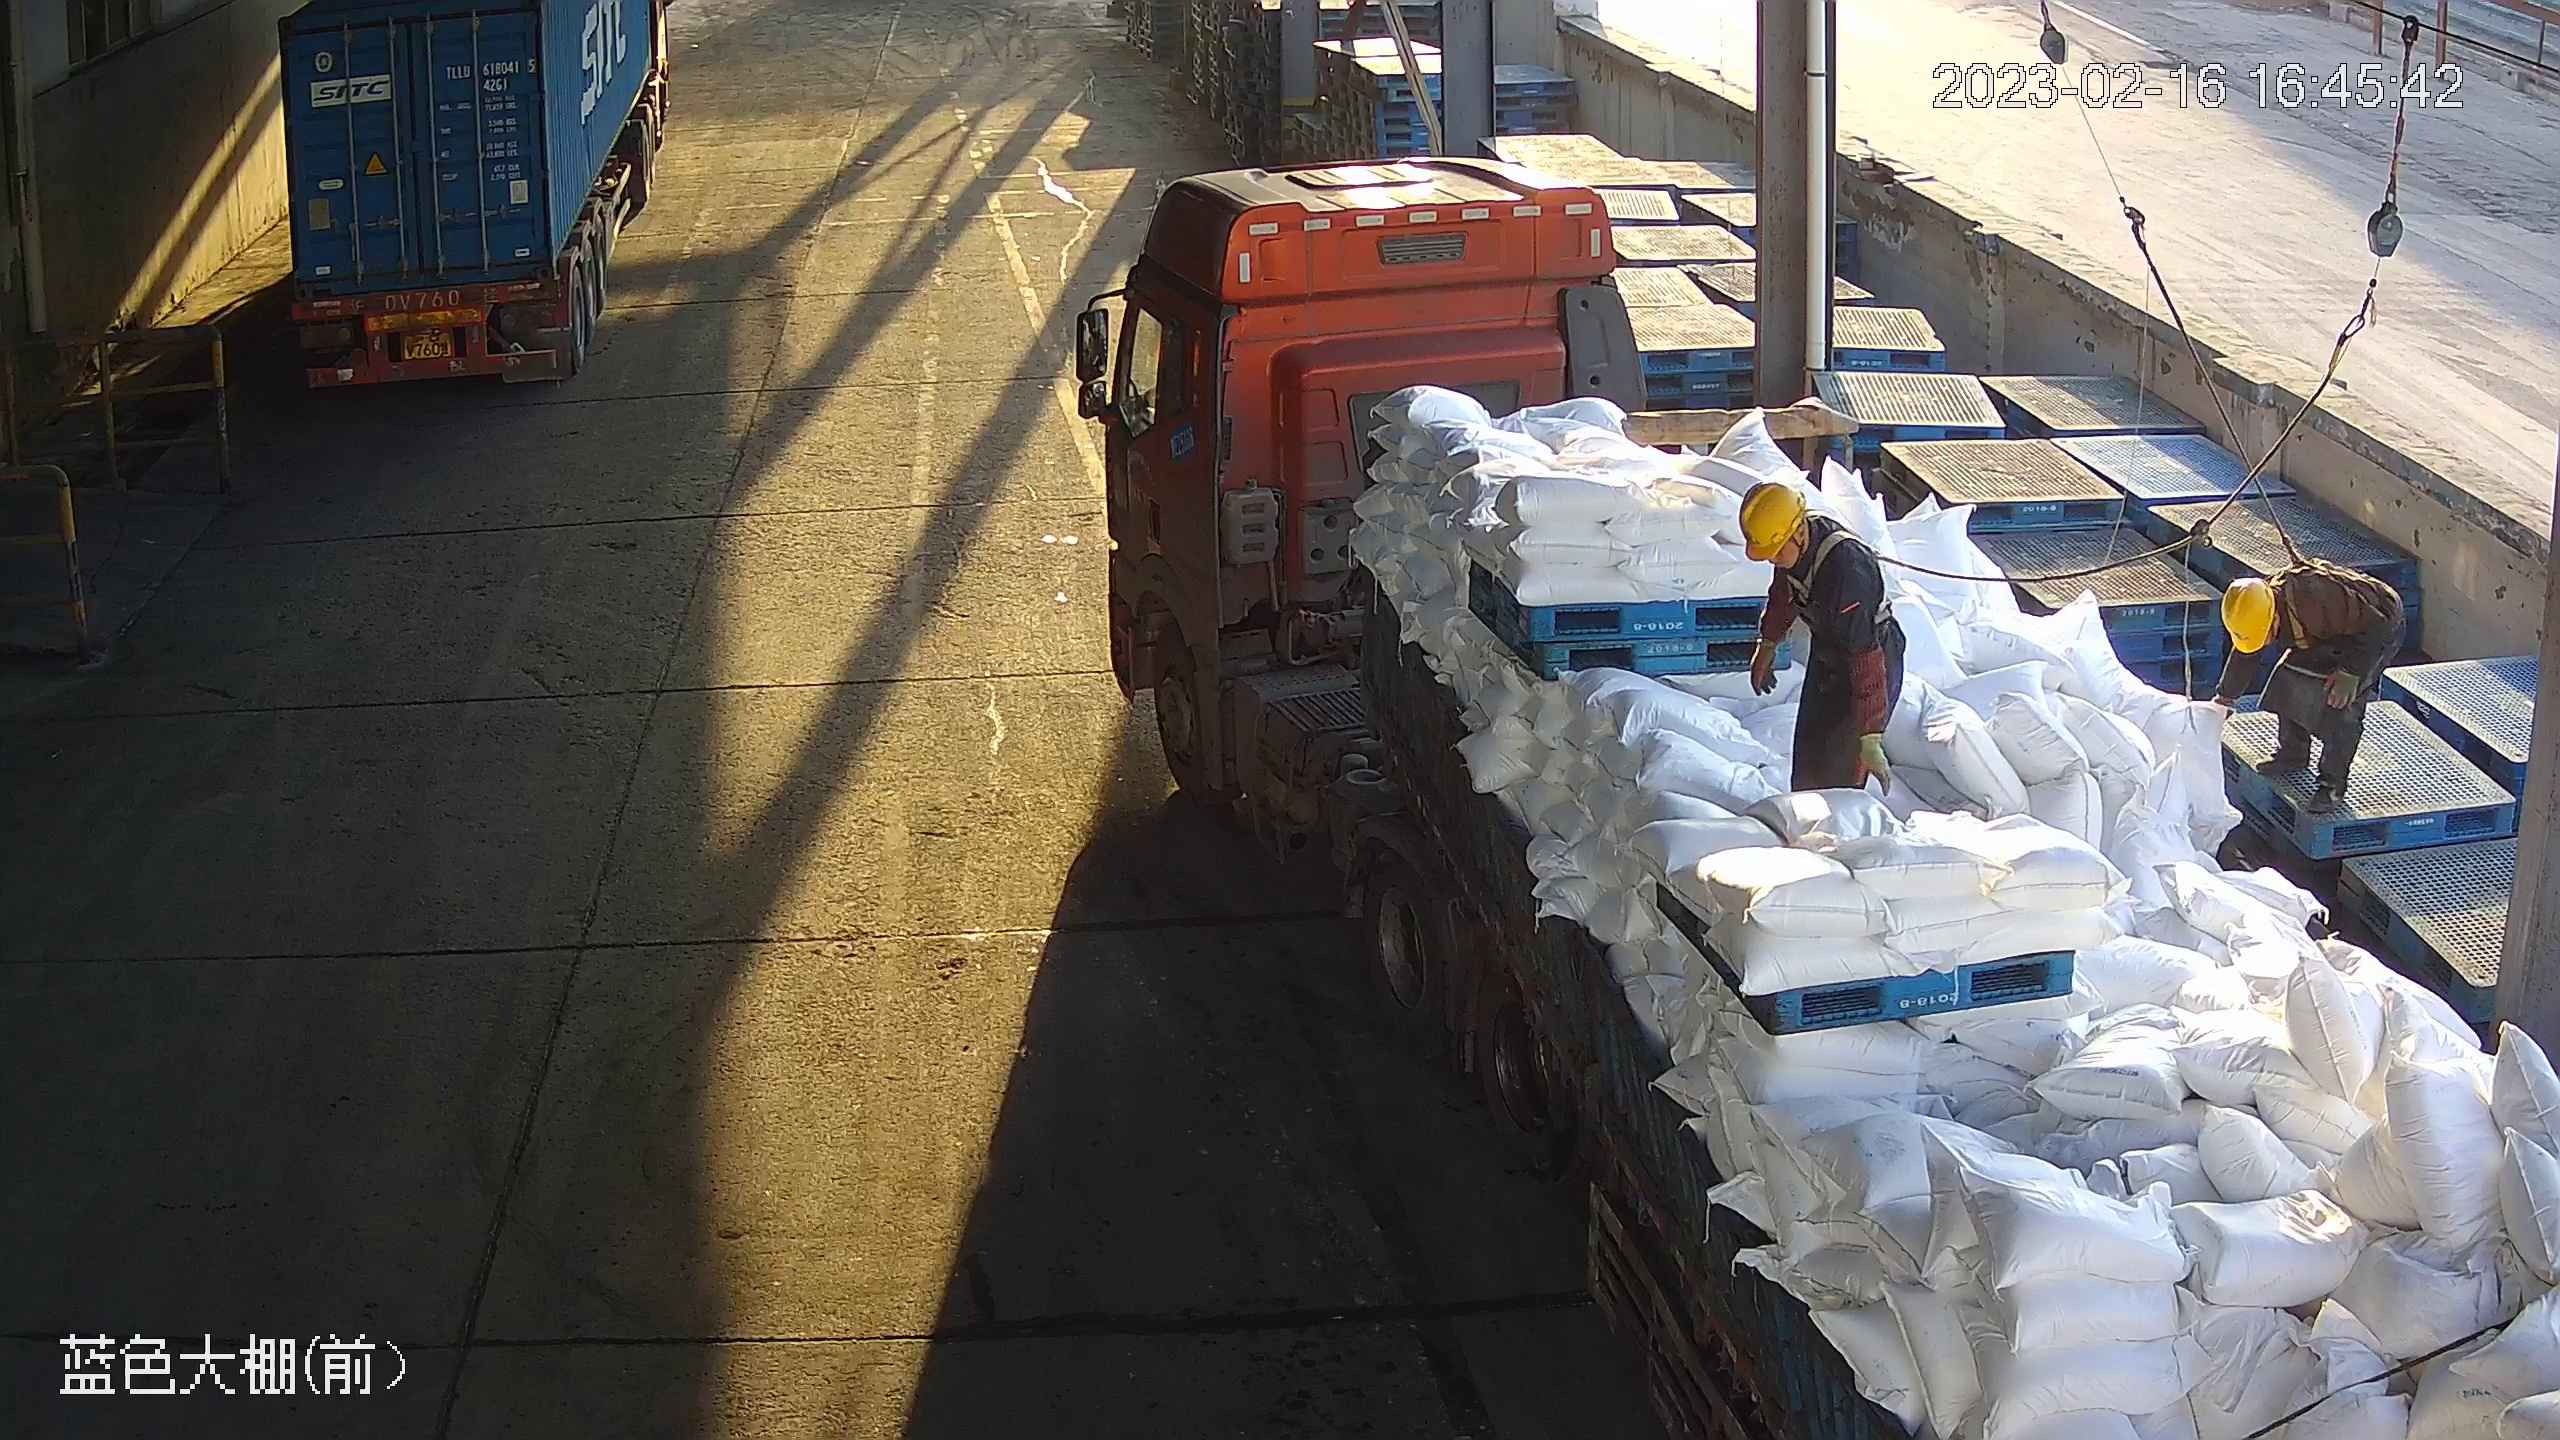belt: (1796, 507, 1901, 611), (2277, 548, 2329, 651)
head: (1740, 481, 1893, 629), (2212, 556, 2356, 688)
helmet: (1740, 480, 1810, 562), (2220, 575, 2275, 655)
people: (1739, 480, 1908, 797), (2213, 560, 2409, 818)
truck: (1067, 153, 2560, 1437), (260, 2, 680, 402)
